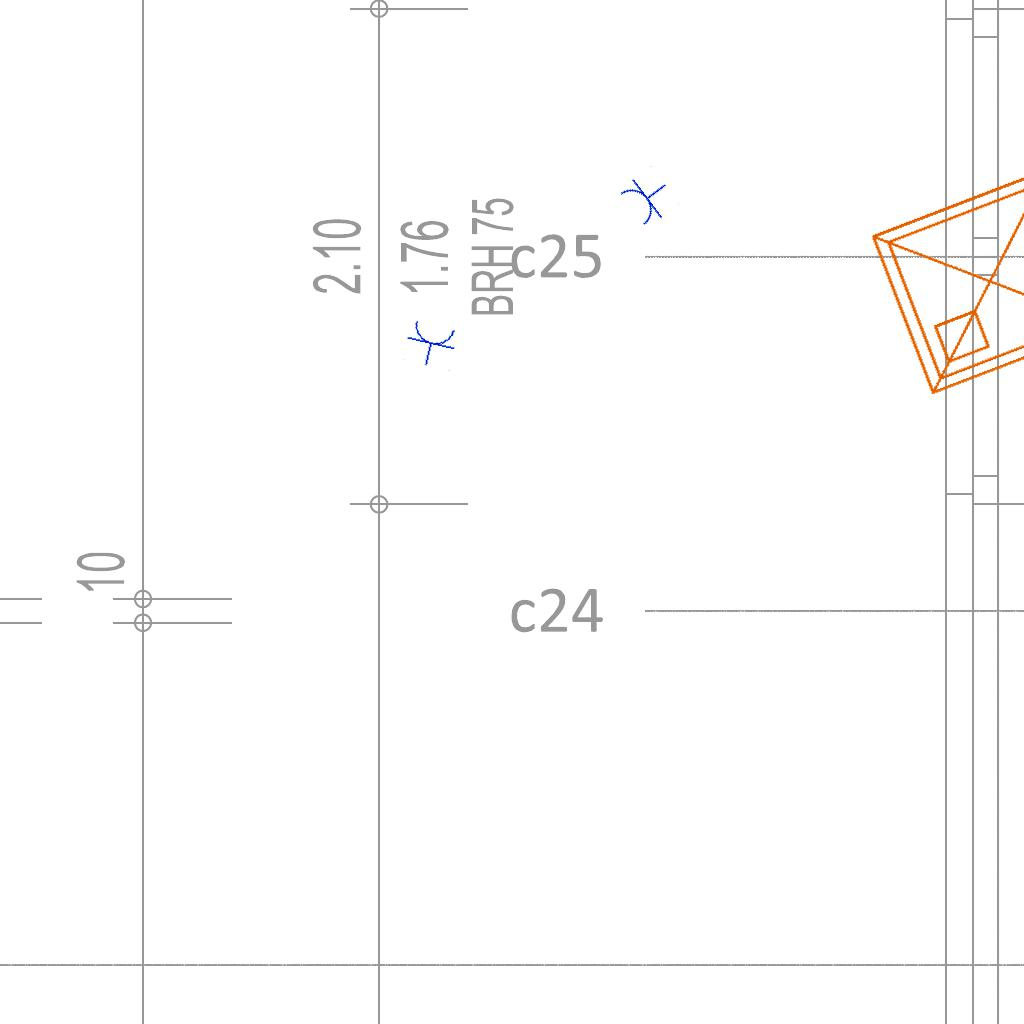Einbaudownlights_LED_Konferenzraeume: (849, 112, 1024, 414)
Schukosteckdose_einfach: (615, 164, 681, 231), (401, 317, 461, 372)
